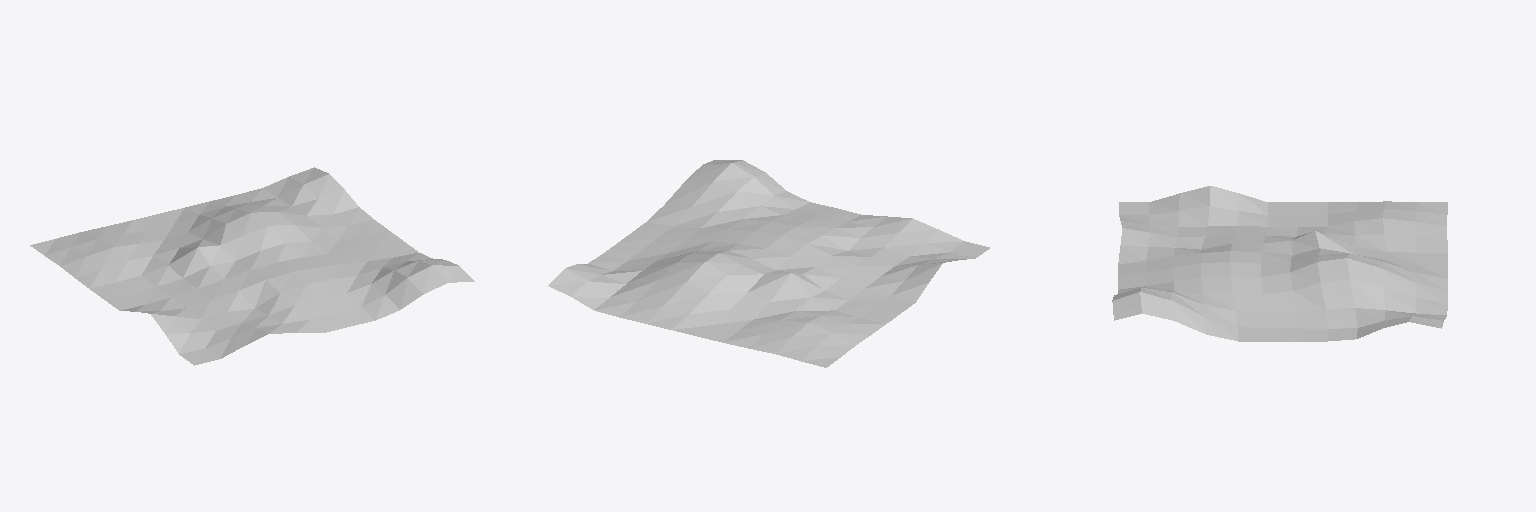
Rendered from map.obj.
3 renders of one model, left to right at view 1: azimuth 30°, elevation 25°; view 2: azimuth 150°, elevation 25°; view 3: azimuth 270°, elevation 25°, orthographic.
Visible parts, largest first — view 1: Plane; view 2: Plane; view 3: Plane.
Boxes of the visible parts, box(x1,y1,x2,y2) form: Plane: box(30, 167, 474, 365); Plane: box(548, 160, 989, 367); Plane: box(1112, 186, 1447, 341).
Bounding box in the file's own units: 20.01 × 2.14 × 20.39.